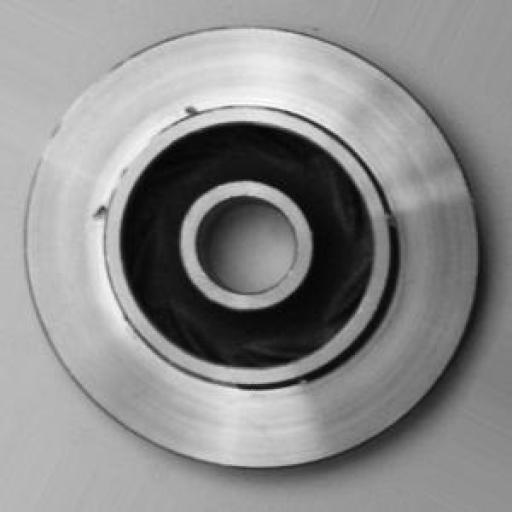defect: (76, 102, 220, 228)
